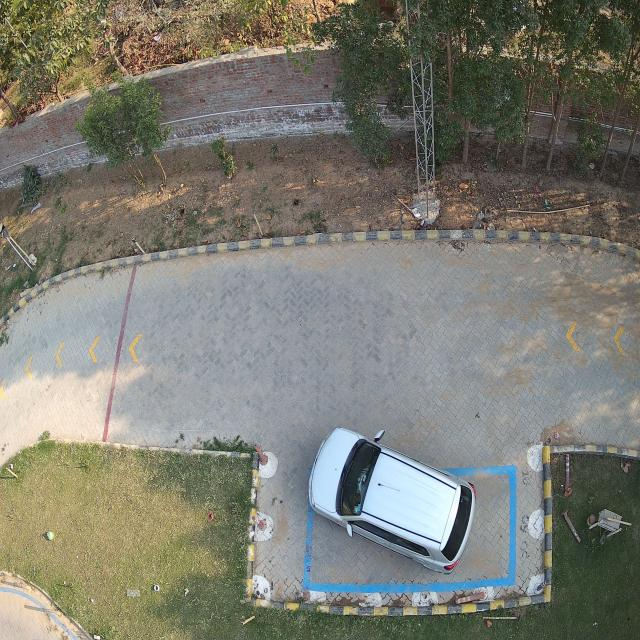car: (310, 430, 474, 570)
